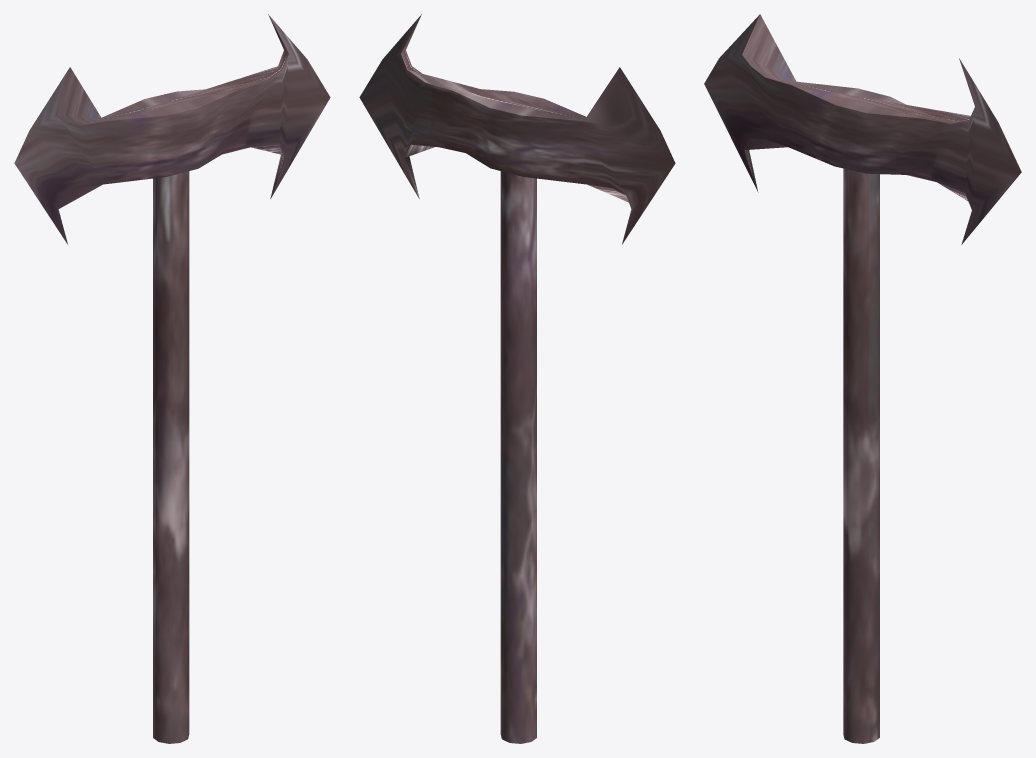
The model's file is battle_Axe.fbx.
3 renders of one model, left to right at view 1: azimuth 30°, elevation 25°; view 2: azimuth 150°, elevation 25°; view 3: azimuth 330°, elevation 25°, orthographic.
Visible parts, largest first — view 1: polySurface1; view 2: polySurface1; view 3: polySurface1.
Boxes of the visible parts, box(x1,y1,x2,y2) form: polySurface1: box(14, 14, 330, 743); polySurface1: box(359, 14, 675, 743); polySurface1: box(704, 14, 1021, 743).
Bounding box in the file's own units: 30.06 × 63.49 × 3.76.
